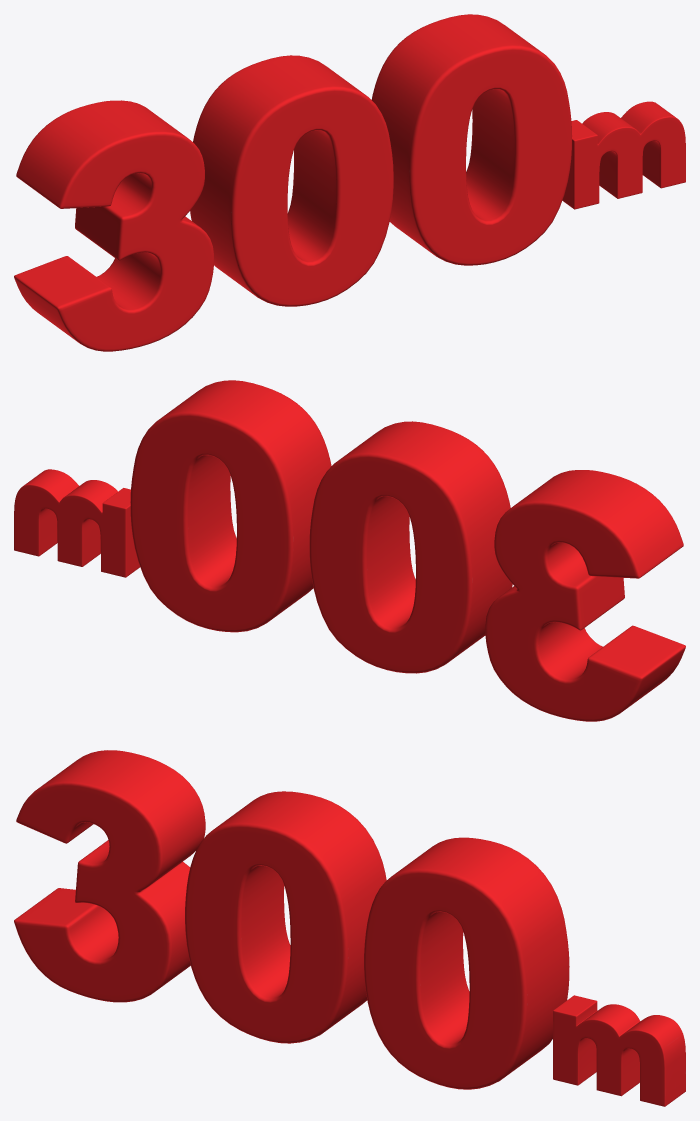
The picture shows the model from 3 angles, top to bottom: view 1: azimuth 30°, elevation 25°; view 2: azimuth 150°, elevation 25°; view 3: azimuth 330°, elevation 25°; orthographic projection.
Visible parts, largest first — view 1: node_id36, node_id52, node_id125, node_id76; view 2: node_id36, node_id52, node_id125, node_id76; view 3: node_id52, node_id36, node_id125, node_id76.
Part boxes in pixels (x1,y1,x2,y2): node_id36: [190, 55, 393, 306]; node_id52: [371, 14, 571, 265]; node_id125: [14, 100, 213, 351]; node_id76: [562, 101, 685, 209]; node_id36: [309, 421, 512, 673]; node_id52: [130, 380, 331, 632]; node_id125: [485, 470, 685, 721]; node_id76: [14, 469, 139, 577]; node_id52: [364, 837, 569, 1089]; node_id36: [185, 791, 386, 1043]; node_id125: [14, 750, 205, 1002]; node_id76: [553, 995, 685, 1106].
Bounding box in the file's own units: 0.5109 × 0.1655 × 0.0661.
Materials: 4 (4 with a texture image).
